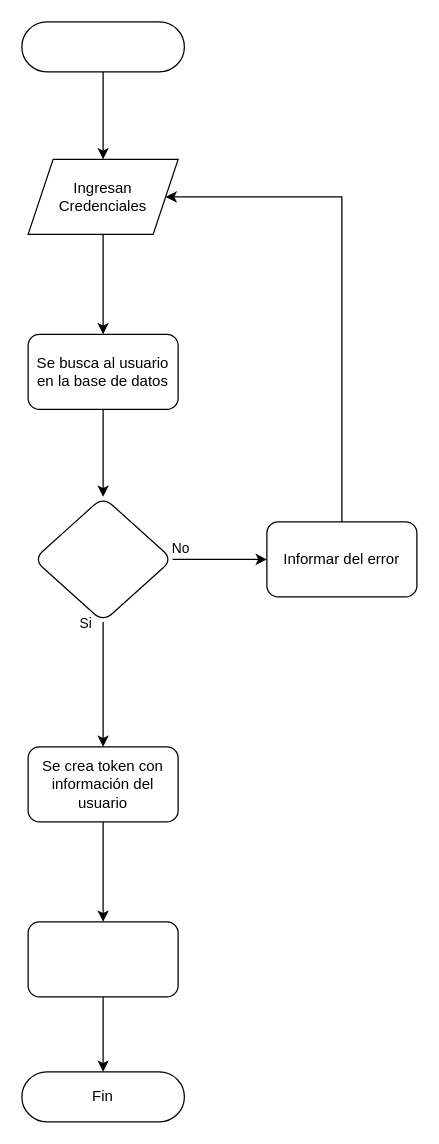
Image size: 439x1144. Some labels were removed from this diagram. Each missing label, with the centre of its shape:
"Inicio" goes at point (102, 46).
"Se encontró al usuario?" goes at point (102, 559).
"Se entrega el token" goes at point (102, 959).
